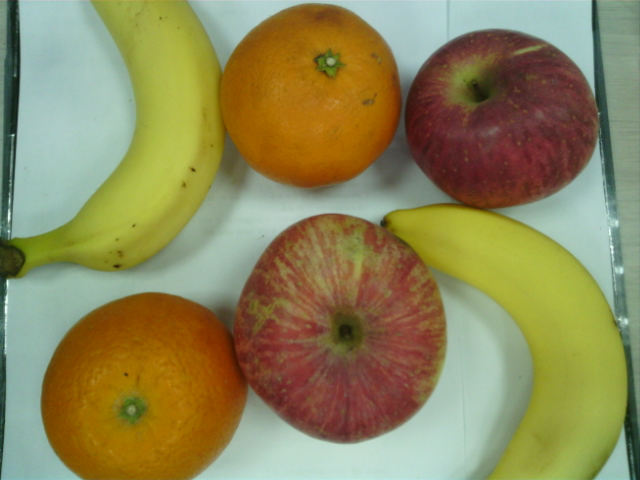normal_apple: (234, 213, 448, 444), (404, 29, 599, 209)
normal_banana: (383, 202, 625, 480), (2, 1, 218, 279)
normal_orange: (41, 293, 248, 480), (219, 3, 401, 187)
